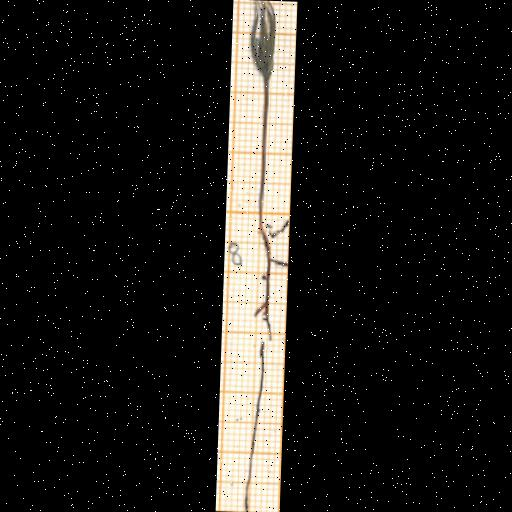flowerPinus: (250, 0, 275, 81)
rootPinus: (245, 350, 265, 511), (261, 221, 287, 323)
stemPinus: (259, 81, 268, 223)
